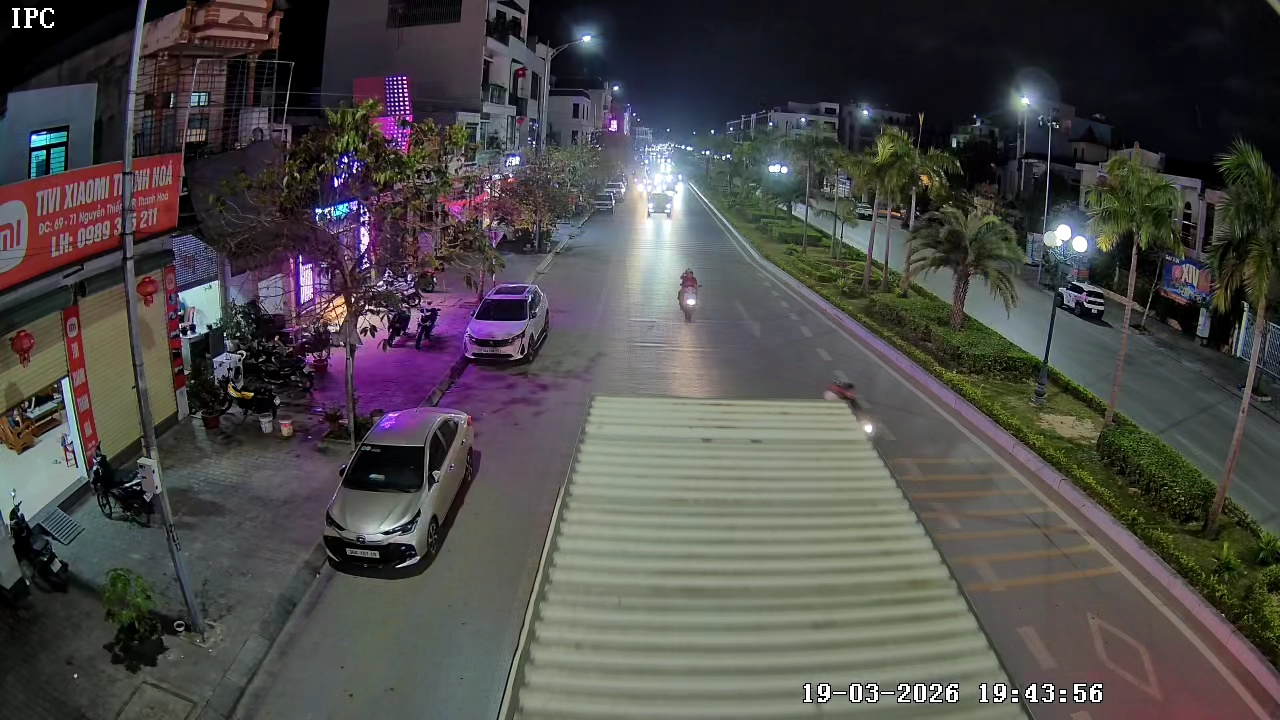car: (323, 405, 482, 576), (464, 281, 552, 365), (647, 185, 676, 217)
motorbike: (676, 266, 701, 322)
truck: (493, 391, 1023, 719)
